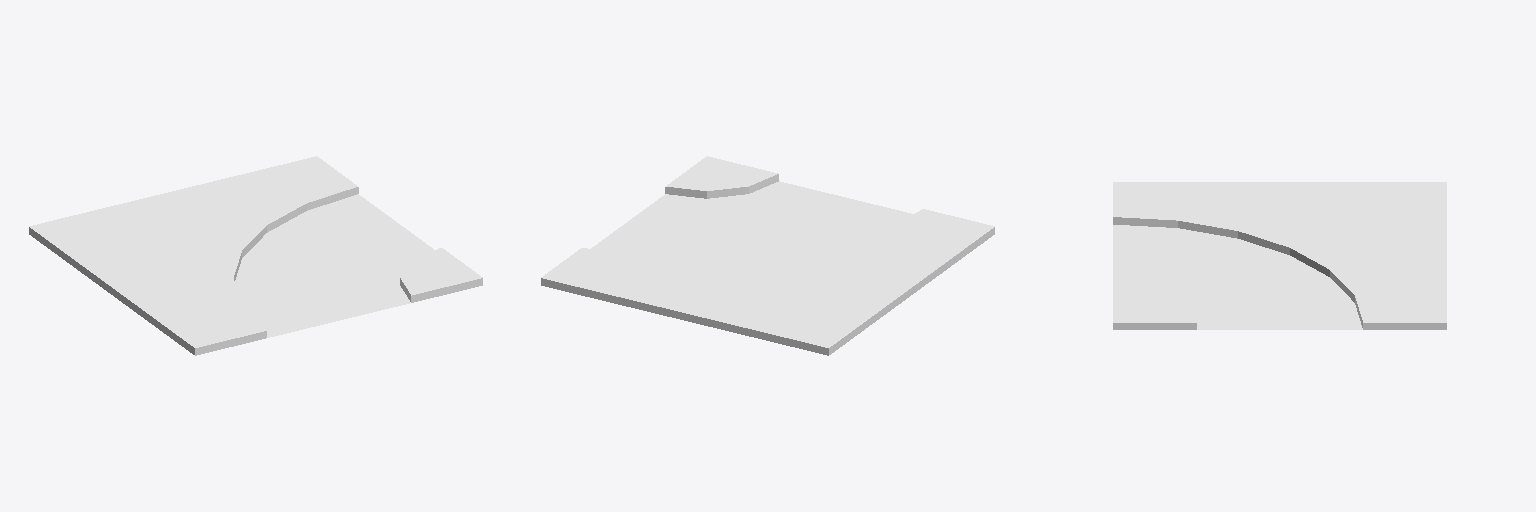
Rendered from road-asphalt-corner.obj.
The picture shows the model from 3 angles: view 1: azimuth 30°, elevation 25°; view 2: azimuth 150°, elevation 25°; view 3: azimuth 270°, elevation 25°; orthographic projection.
Parts seen in each view (by area): view 1: road-asphalt-corner; view 2: road-asphalt-corner; view 3: road-asphalt-corner.
Boxes of the visible parts, <box> form: road-asphalt-corner: <box>29,156,482,355</box>; road-asphalt-corner: <box>541,156,994,355</box>; road-asphalt-corner: <box>1113,182,1446,329</box>.
Bounding box in the file's own units: 2 × 0.05 × 2.